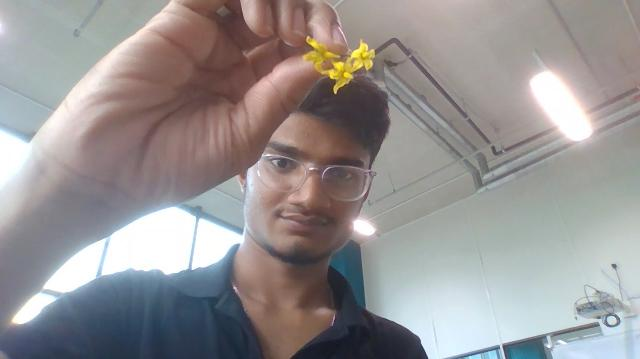Anthesis: (301, 36, 341, 74), (327, 60, 355, 93), (348, 40, 376, 73)
